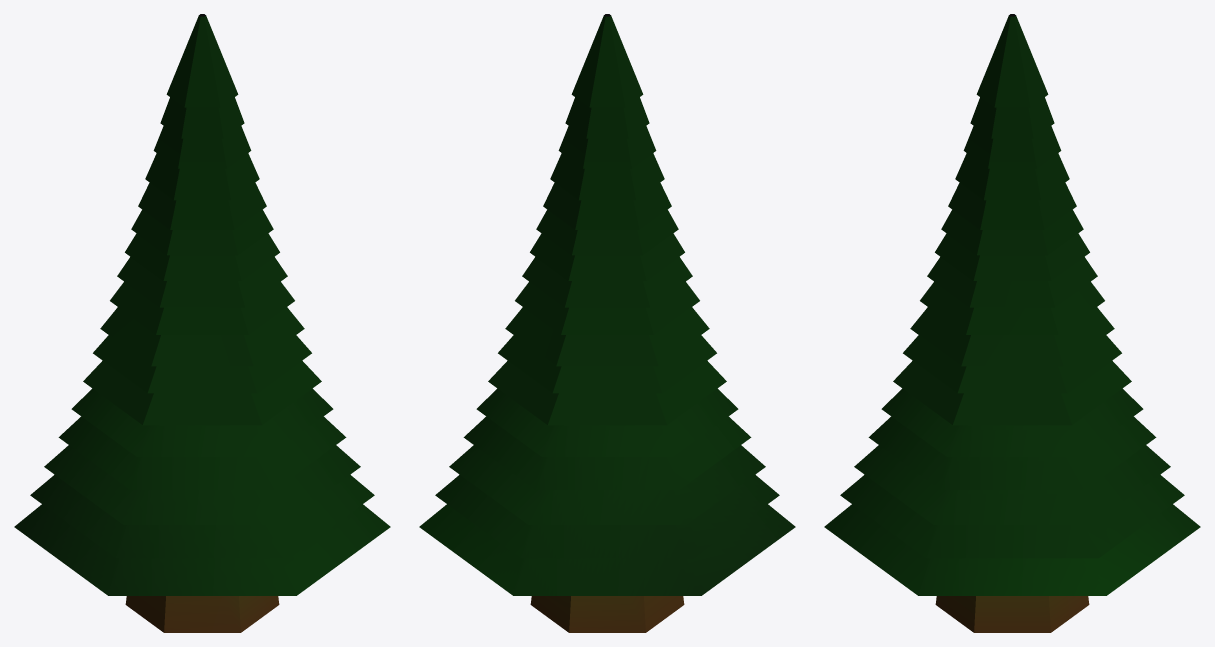
File: Pine_1.glb
3 views of the same model, side by side, from view 1: azimuth 30°, elevation 25°; view 2: azimuth 150°, elevation 25°; view 3: azimuth 270°, elevation 25° (orthographic).
Parts seen in each view (by area): view 1: Pine_1; view 2: Pine_1; view 3: Pine_1.
Boxes of the visible parts, x1,y1,x2,y2 form: Pine_1: [14, 14, 390, 632]; Pine_1: [419, 14, 795, 632]; Pine_1: [824, 14, 1200, 632].
Size of the model in its own units: 2.16 by 4.31 by 2.49.
Materials: 1 (1 with a texture image).
